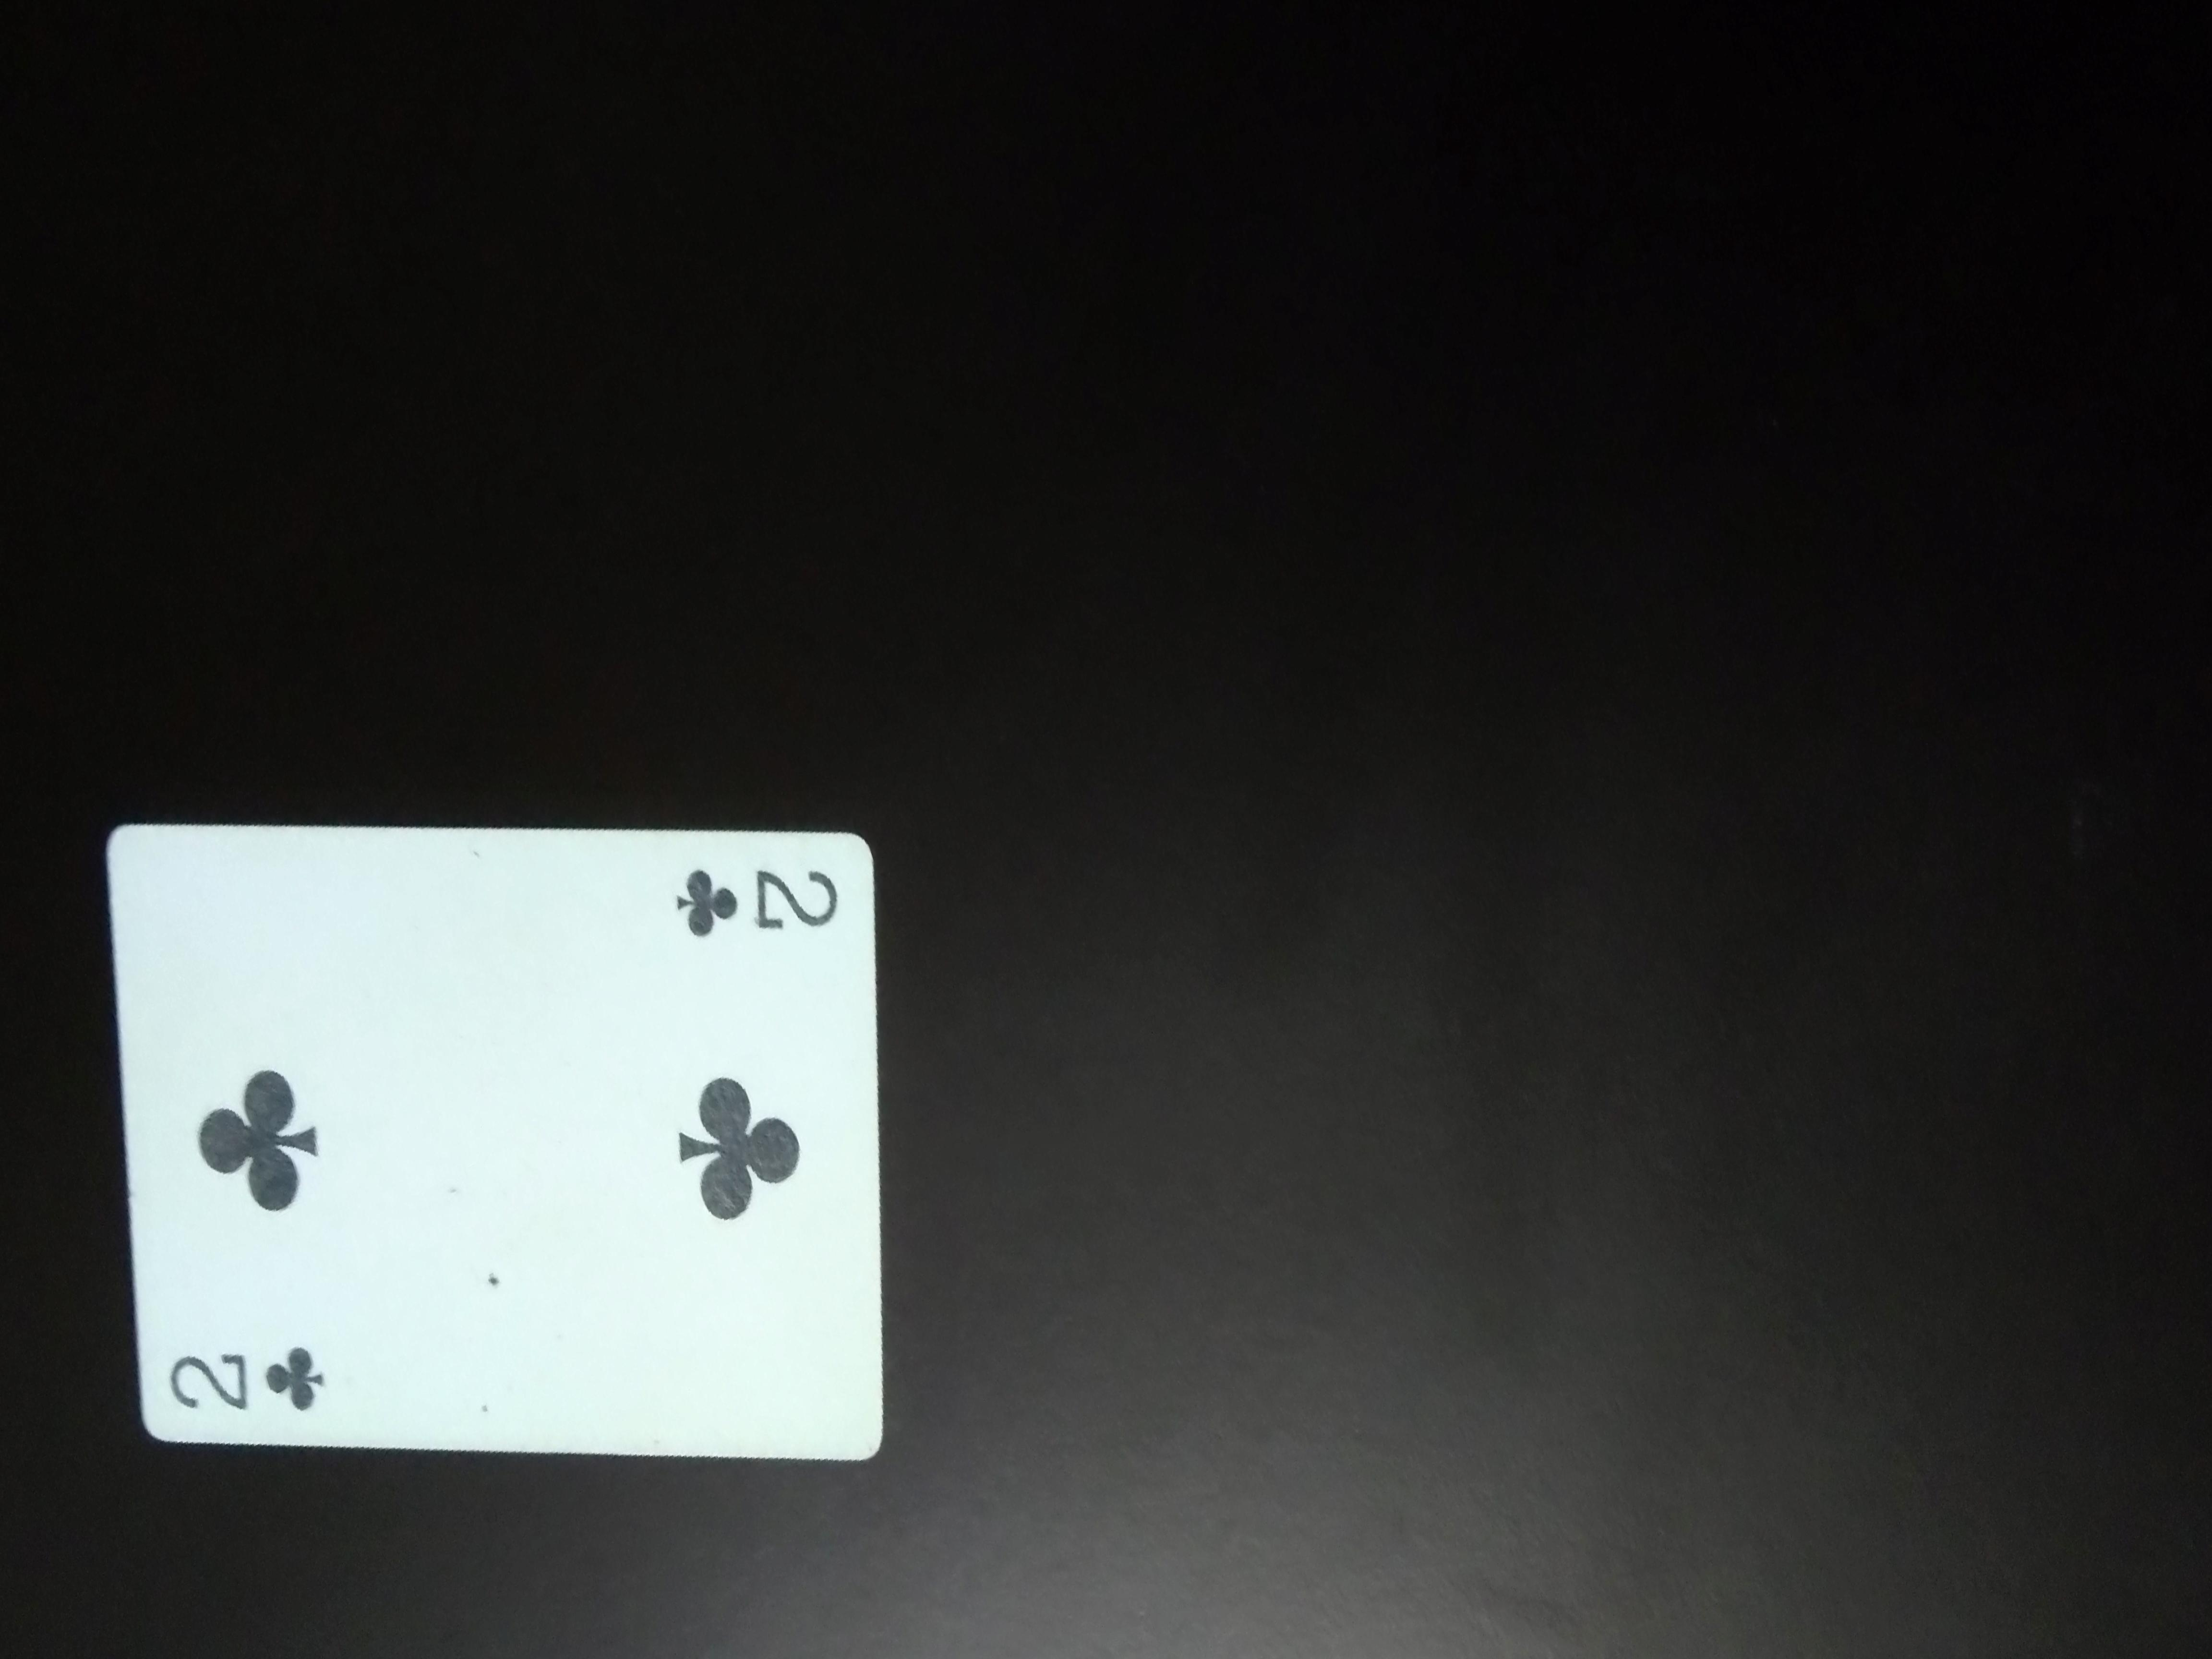2C: (625, 843, 855, 957)
